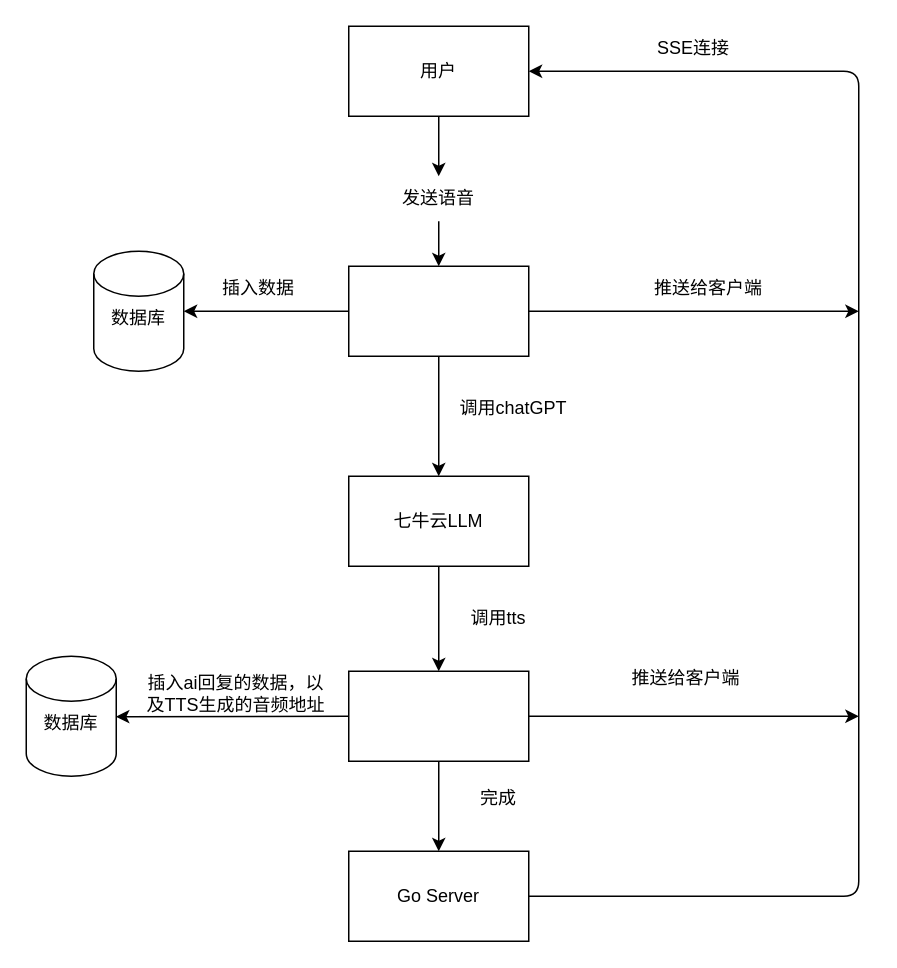
Image size: 897x968. Some labels were removed from this diagram. Here are the shapes that lost their labels. From the top down, the centre of each, then its label:
At point (438, 310): "语音转文字Whisper".
At point (438, 715): "七牛云TTS".
